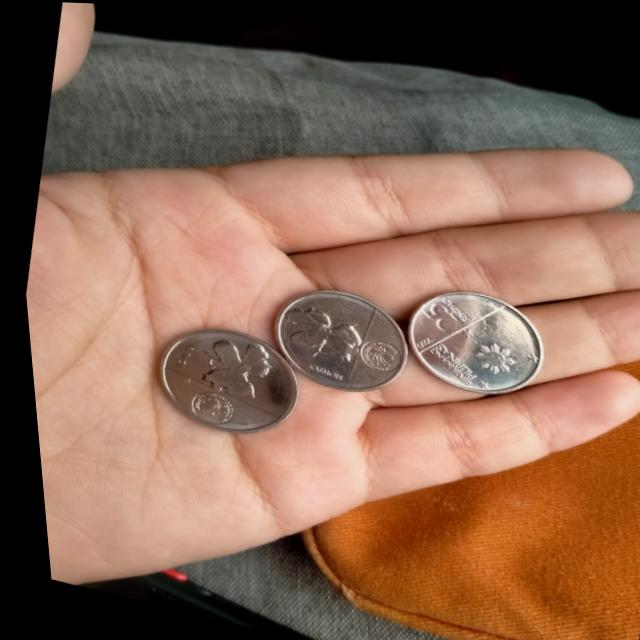25Cent_New_Back: (180, 328, 278, 407), (264, 290, 363, 367)
25Cent_New_Front: (408, 281, 481, 337)
